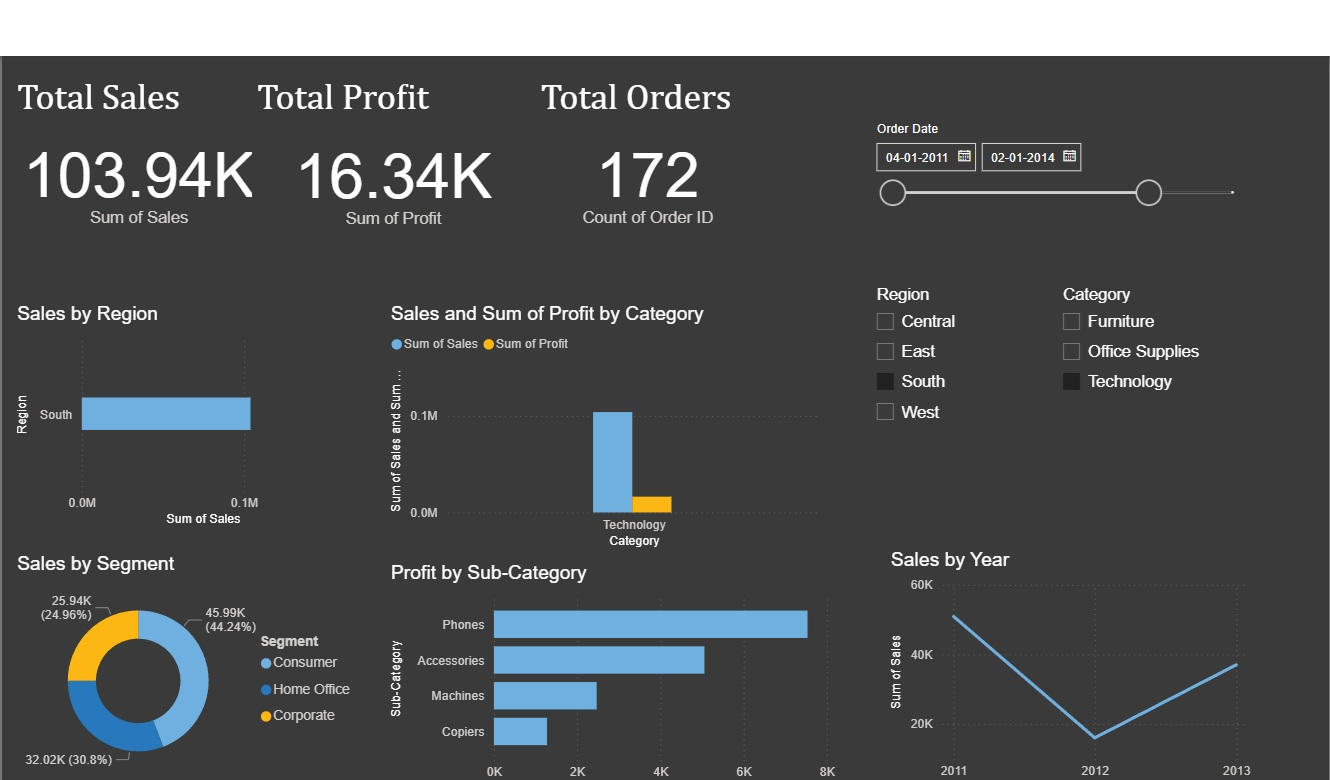

Layout of this report page (visuals, bound fields, positions):
{"tool":"powerbi","page":{"name":"Page 1","canvas":[1280,720],"ordinal":0},"visuals":[{"type":"card","title":"Total Sales","fields":{"Values":["Sum(Orders.Sales)"]},"box":[10,20,245.6,160],"z":0},{"type":"card","title":"Total Profit","fields":{"Values":["Sum(Orders.Profit)"]},"box":[241.7,20,273.3,161.7],"z":1000},{"type":"card","title":"Total Orders","fields":{"Values":["Count(Orders.Order ID)"]},"box":[515,20,216.7,160],"z":2000},{"type":"clusteredBarChart","title":" Sales by Region","fields":{"Category":["Orders.Region"],"Y":["Sum(Orders.Sales)"]},"box":[9.8,239.8,322.5,220.2],"z":3000},{"type":"clusteredColumnChart","title":"Sales and Sum of Profit by Category","fields":{"Category":["Orders.Category"],"Y":["Sum(Orders.Sales)","Sum(Orders.Profit)"]},"box":[370.2,239.8,424.9,241.2],"z":4000},{"type":"lineChart","title":"Sales by Year","fields":{"Category":["Orders.Order Date.Variation.Date Hierarchy.Year","Orders.Order Date.Variation.Date Hierarchy.Quarter","Orders.Order Date.Variation.Date Hierarchy.Month","Orders.Order Date.Variation.Date Hierarchy.Day"],"Y":["Sum(Orders.Sales)"]},"box":[852.6,478.2,357.6,241.2],"z":5000},{"type":"donutChart","title":"Sales by Segment","fields":{"Category":["Orders.Segment"],"Y":["Sum(Orders.Sales)"]},"box":[10,481.5,340,227],"z":6000},{"type":"barChart","title":"Profit by Sub-Category","fields":{"Category":["Orders.Sub-Category"],"Y":["Sum(Orders.Profit)"]},"box":[370.2,489.4,438.9,230],"z":7000},{"type":"slicer","fields":{"Values":["Orders.Region"]},"box":[831.6,218.8,165.5,159.9],"z":8000},{"type":"slicer","fields":{"Values":["Orders.Category"]},"box":[1011,218.8,172.5,159.9],"z":9000},{"type":"slicer","fields":{"Values":["Orders.Order Date"]},"box":[831.6,60.3,378.6,137.4],"z":10000}]}

Visuals, with their boxes on the page's 1280x720 design canvas (x1, y1, x2, y2). These are canvas units, not pixel positions in the 1330x780 screenshot, which may show the page scaled, cropped or inside an application window:
"Total Sales" card: 10,20,256,180
"Total Profit" card: 242,20,515,182
"Total Orders" card: 515,20,732,180
" Sales by Region" clusteredBarChart: 10,240,332,460
"Sales and Sum of Profit by Category" clusteredColumnChart: 370,240,795,481
"Sales by Year" lineChart: 853,478,1210,719
"Sales by Segment" donutChart: 10,482,350,708
"Profit by Sub-Category" barChart: 370,489,809,719
slicer - Orders.Region: 832,219,997,379
slicer - Orders.Category: 1011,219,1184,379
slicer - Orders.Order Date: 832,60,1210,198
